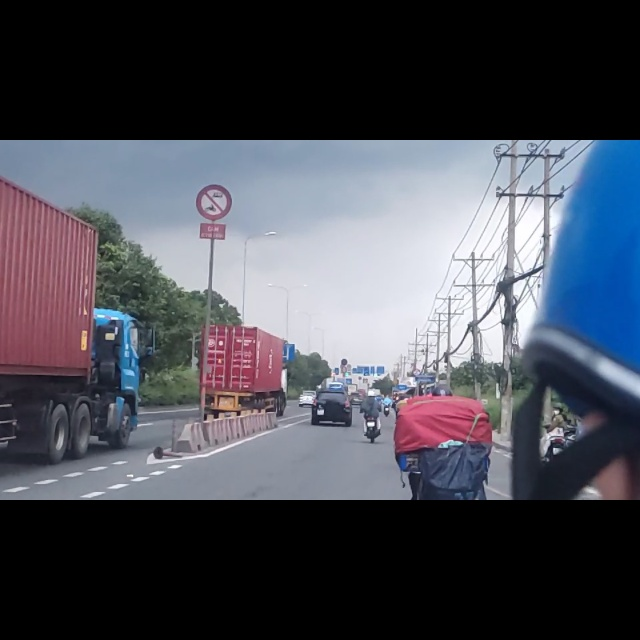bien_cam: (196, 78, 233, 142)
